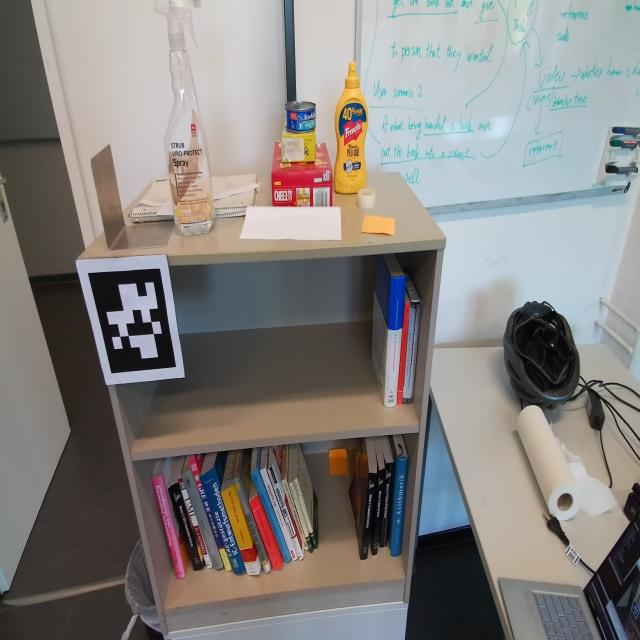Book Spine: (199, 466, 246, 574), (188, 457, 231, 571), (181, 468, 224, 569), (250, 466, 291, 563), (232, 475, 270, 574), (260, 467, 298, 561), (151, 475, 185, 579), (221, 485, 260, 575), (267, 466, 304, 560), (177, 477, 212, 568), (168, 483, 203, 571), (384, 275, 407, 408), (249, 495, 282, 570), (281, 478, 309, 551), (390, 457, 409, 557), (294, 477, 318, 549), (289, 482, 313, 553), (361, 473, 377, 559), (397, 302, 410, 404), (408, 304, 421, 404), (380, 462, 394, 548), (403, 305, 415, 403), (372, 468, 385, 556)
